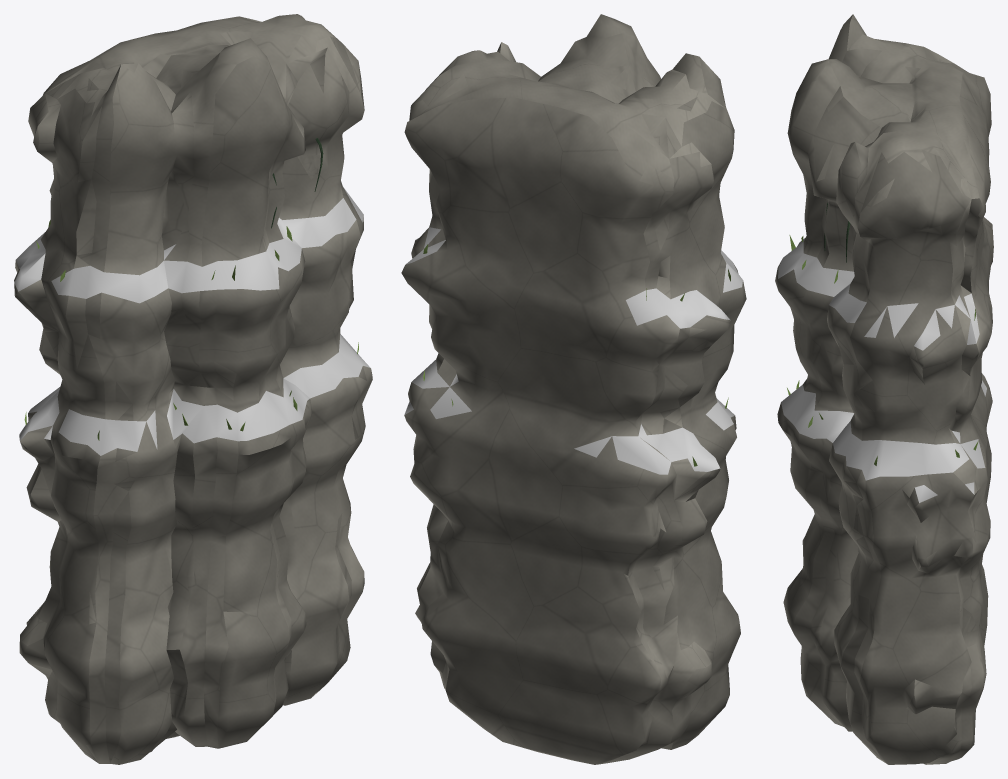
The model's file is Furn_Cliff2_B.fbx.
3 renders of one model, left to right at view 1: azimuth 30°, elevation 25°; view 2: azimuth 150°, elevation 25°; view 3: azimuth 270°, elevation 25°, orthographic. The views are drawn at different scales.
Visible parts, largest first — view 1: Furn_Cliff2_B; view 2: Furn_Cliff2_B; view 3: Furn_Cliff2_B.
Boxes of the visible parts, left/top/right/bottom form: Furn_Cliff2_B: left=14, top=14, right=372, bottom=764; Furn_Cliff2_B: left=401, top=14, right=746, bottom=764; Furn_Cliff2_B: left=775, top=14, right=993, bottom=764.
Bounding box in the file's own units: 10 × 20.88 × 6.
